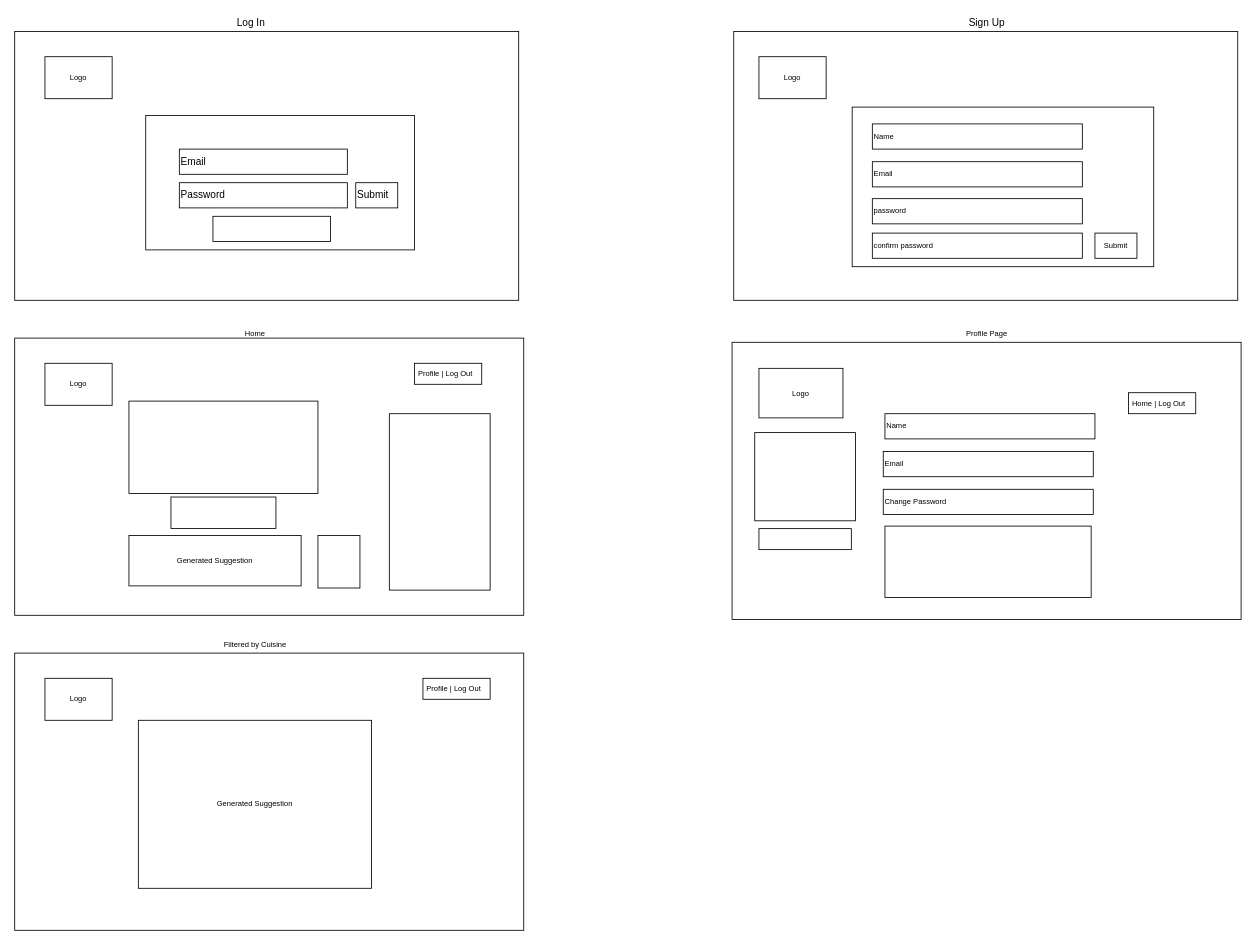
This 1256x945 diagram has some shape labels left out. Here are the shapes that lost their labels. From the top down, the centre of each, then its label:
pixel 271 228: Not a member? Click here to join
pixel 223 447: Filter Options
pixel 805 476: Picture
pixel 223 512: Generate Meal
pixel 439 501: List of Cuisine: i.e Asian: - Dropdown of 3 meals
pixel 804 539: Change Profile Pic
pixel 338 561: Bookmark
pixel 987 561: Bookmarked Recipes
